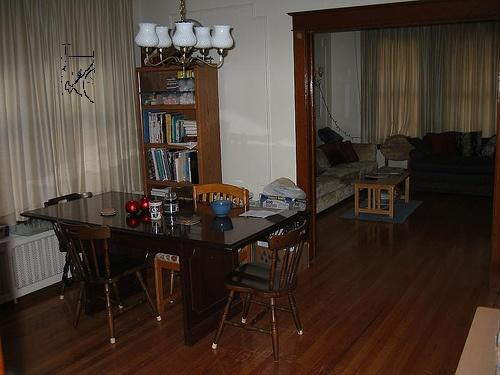tampered: (62, 45, 95, 103)
